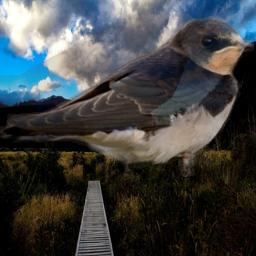Swallow: (0, 14, 254, 177)
